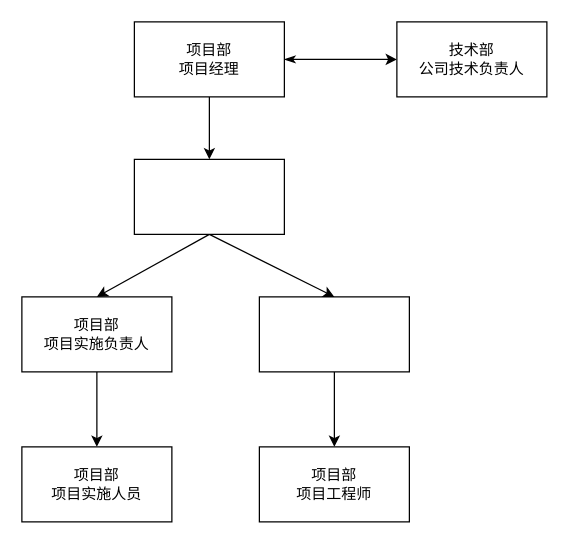
Some shapes in this 569 by 544 pixel diagram are drawn without their labels. Each missing label, with the centre of its shape:
项目部 项目技术负责人: [333,334]
项目部 项目防疫负责人: [208,196]
